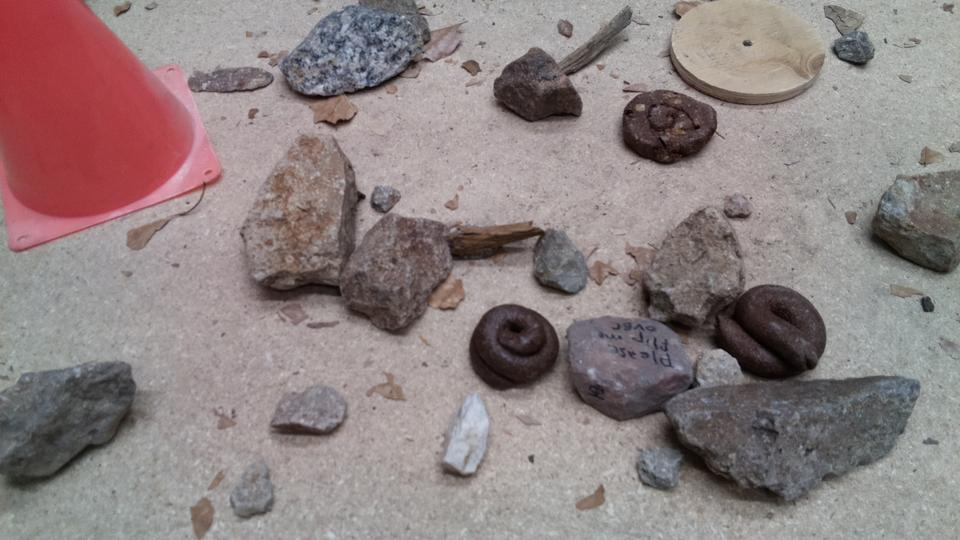poop: (713, 281, 830, 379), (466, 302, 562, 393), (619, 85, 719, 166)
